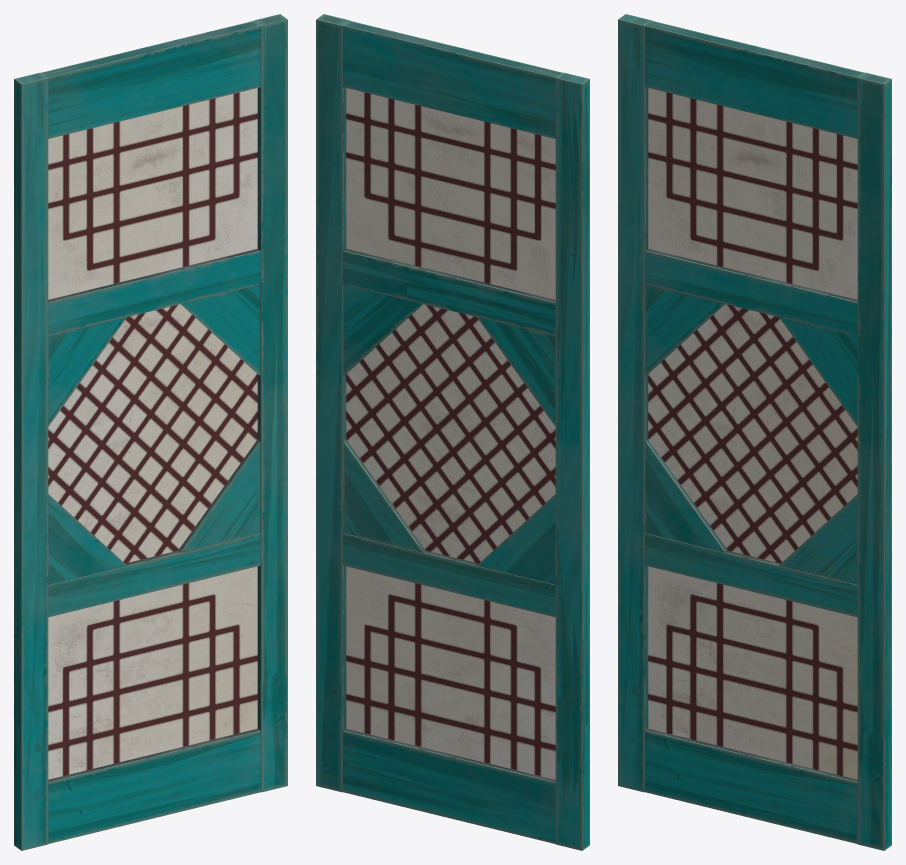
File: door_move.fbx
3 views of the same model, side by side, from view 1: azimuth 30°, elevation 25°; view 2: azimuth 150°, elevation 25°; view 3: azimuth 330°, elevation 25° (orthographic).
Visible parts, largest first — view 1: 0215_door_low; view 2: 0215_door_low; view 3: 0215_door_low.
Part boxes in pixels (x1=…): 0215_door_low: x1=14, y1=14, x2=287, y2=850; 0215_door_low: x1=316, y1=14, x2=589, y2=850; 0215_door_low: x1=618, y1=14, x2=891, y2=850.
Size of the model in its own units: 100 by 275 by 5.
